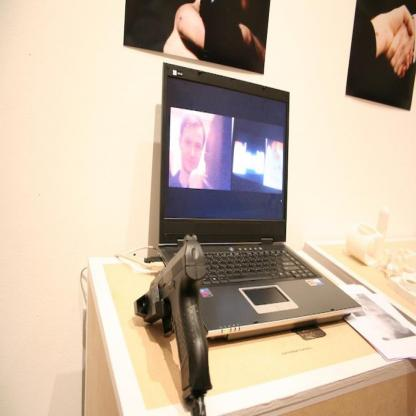board: (157, 63, 363, 341)
